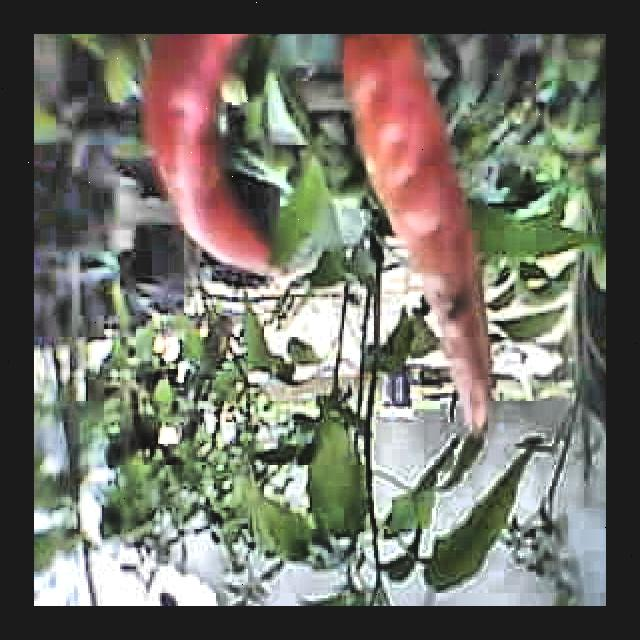Cabai: (345, 34, 542, 441), (147, 34, 287, 310)
